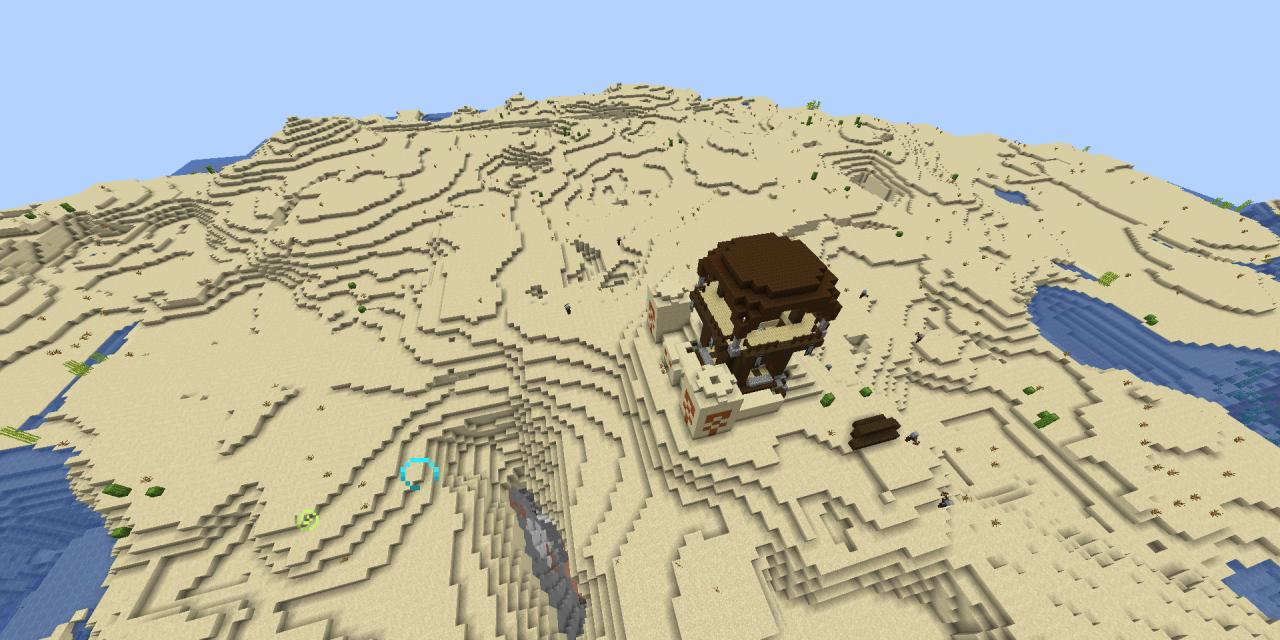desert temple: (638, 266, 744, 449)
pillager outpost: (679, 222, 857, 407)
